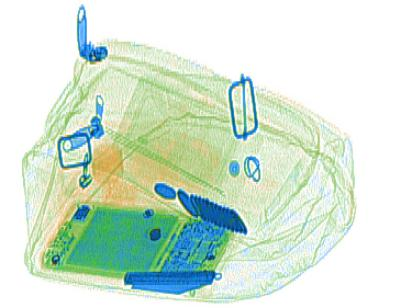knife: (123, 268, 221, 295)
